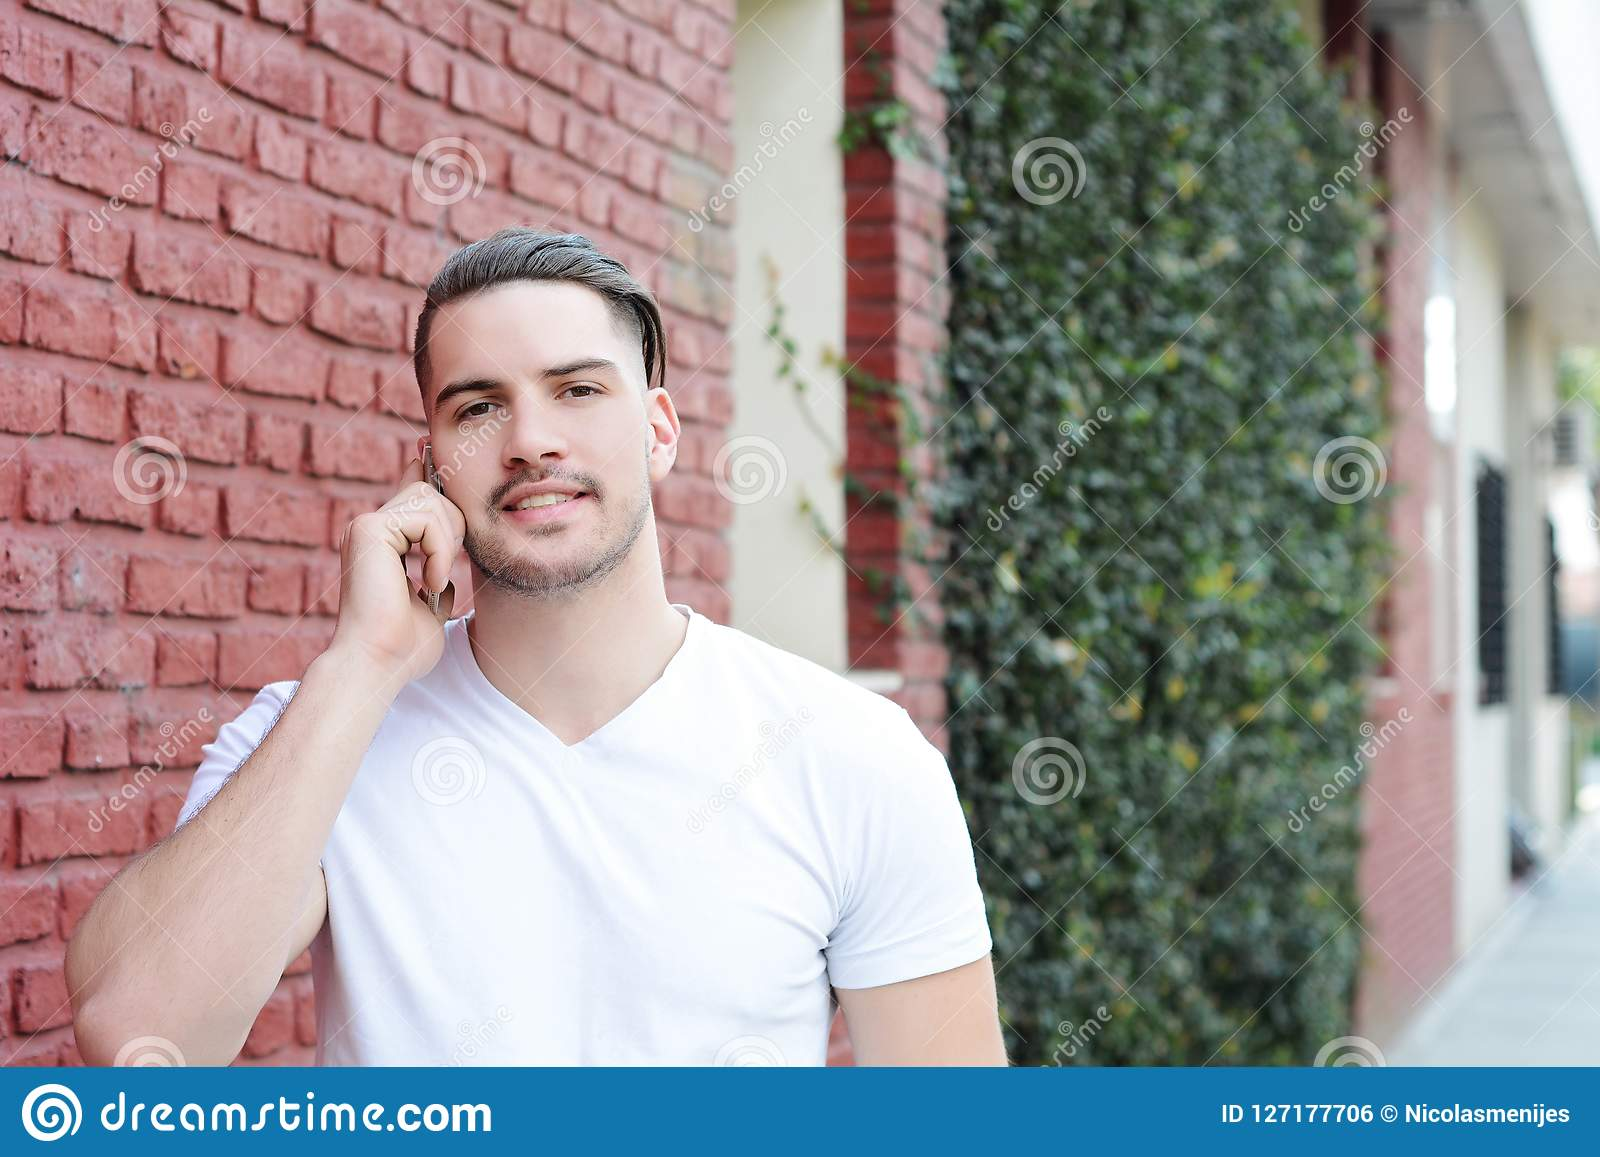phone: (410, 442, 463, 633)
talk: (329, 345, 630, 705)
